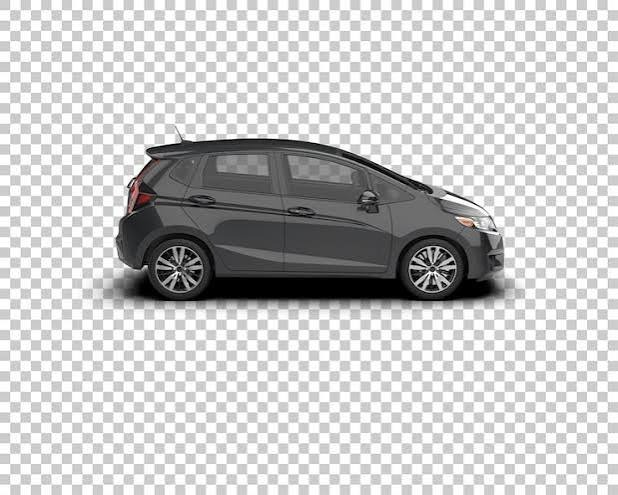car: (126, 133, 491, 306)
